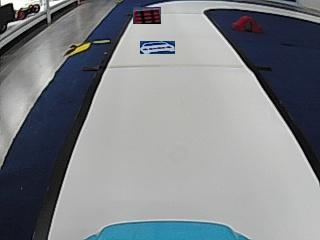bridge: (232, 15, 261, 33)
